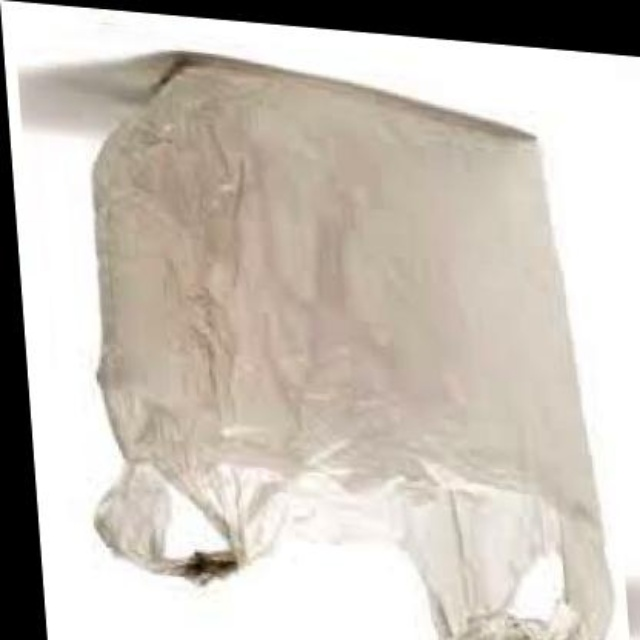trash: (94, 52, 611, 638)
